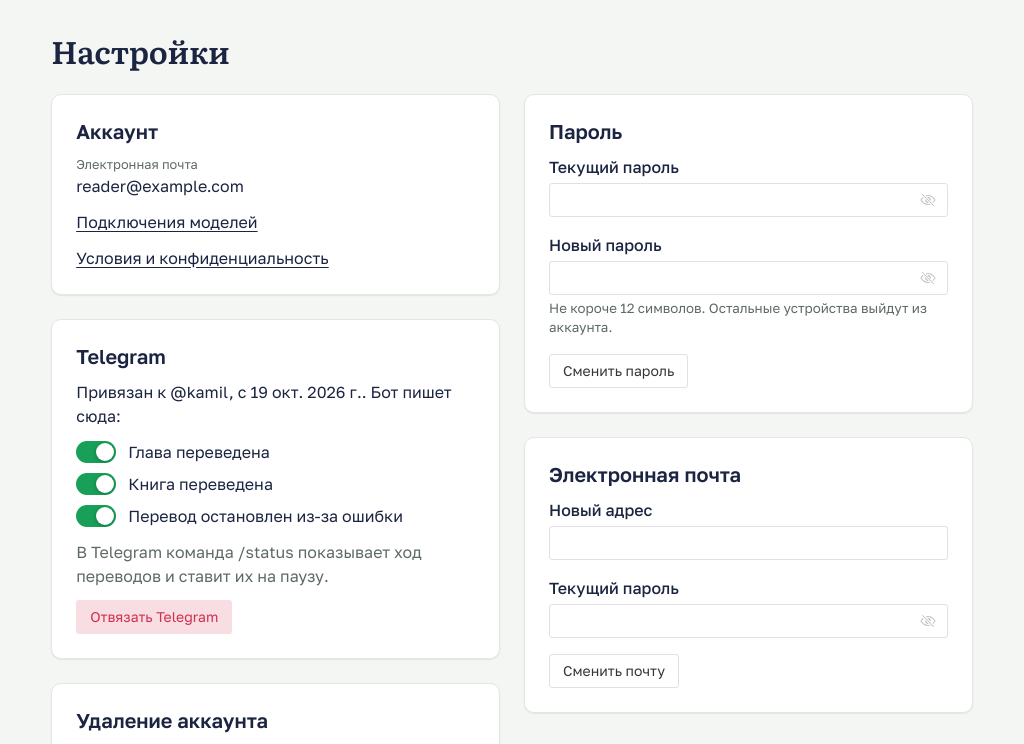
Test case: настройки › привязан: переключатели уведомлений и отвязка с подтверждением
Expected: the elements with class "toggle" read "Глава переведена", "Книга переведена", "Перевод остановлен из-за ошибки", in this order, x1=76 y1=441 x2=270 y2=463; x1=76 y1=473 x2=273 y2=495; x1=76 y1=504 x2=403 y2=528
Click the switch next to "Глава переведена" at (96, 452), box x1=76 y1=441 x2=116 y2=463
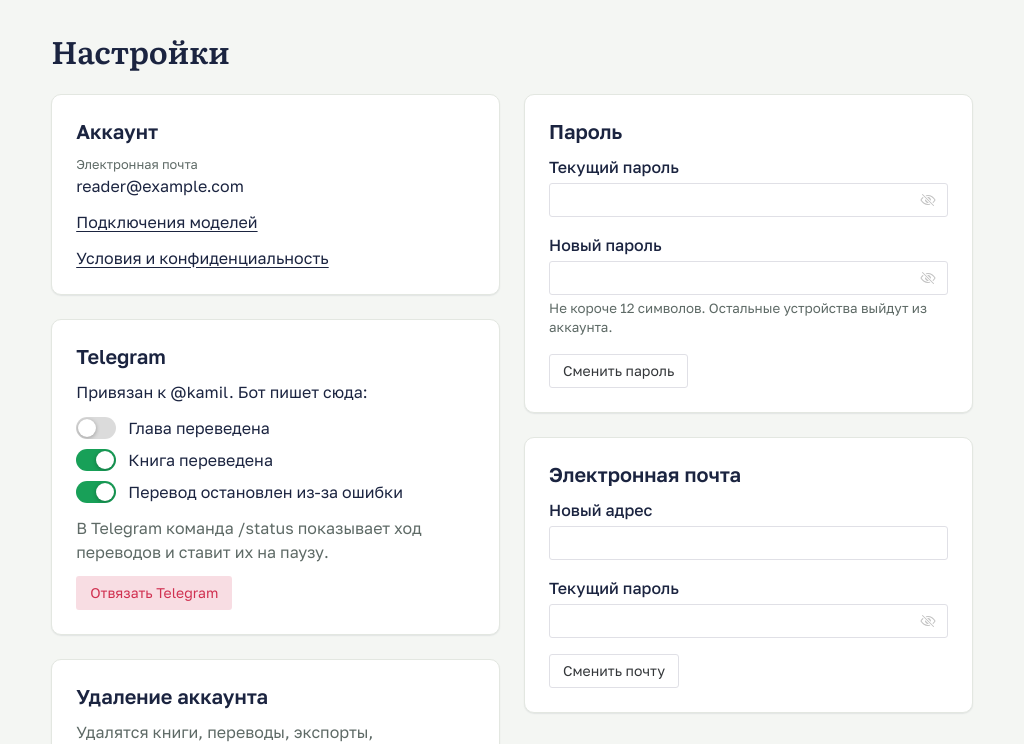
Click the button with class "danger" at (154, 593), box x1=76 y1=576 x2=232 y2=610
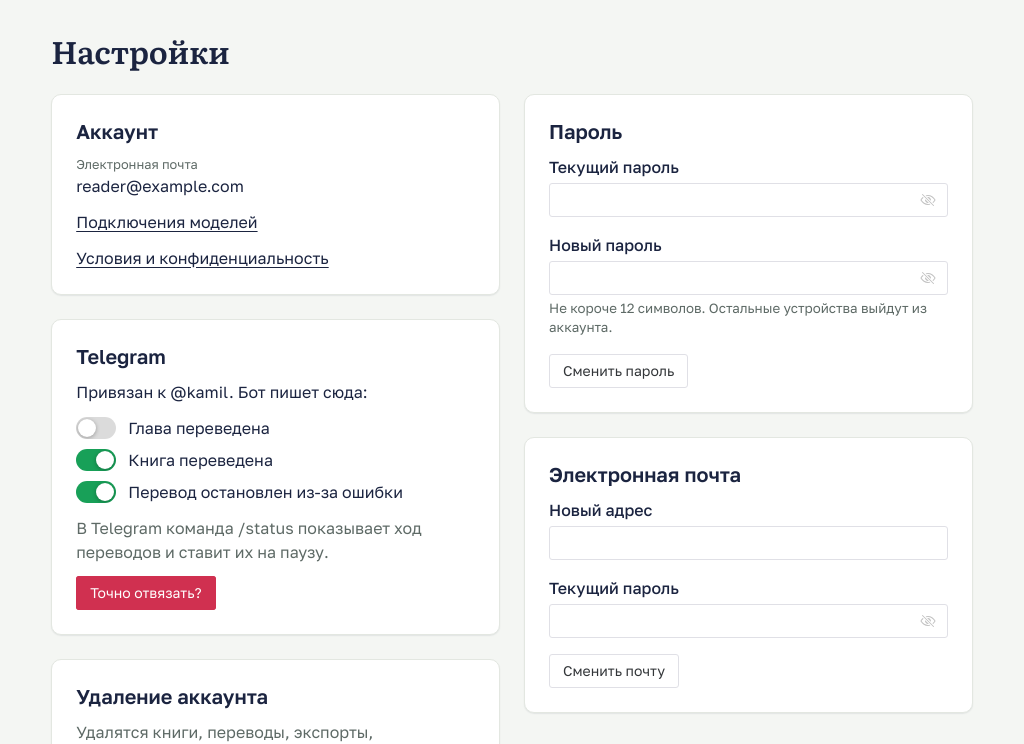
Click the button with class "danger" at (146, 593), box x1=76 y1=576 x2=216 y2=610
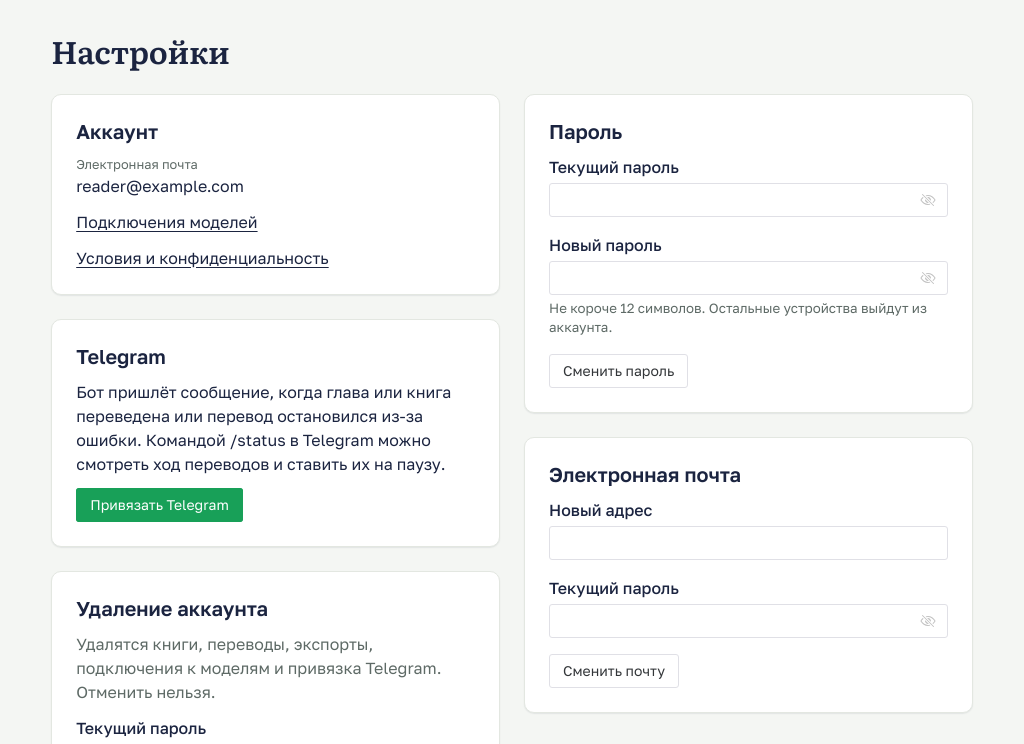
Result: the button "Привязать Telegram" is shown at x1=76 y1=488 x2=243 y2=522
